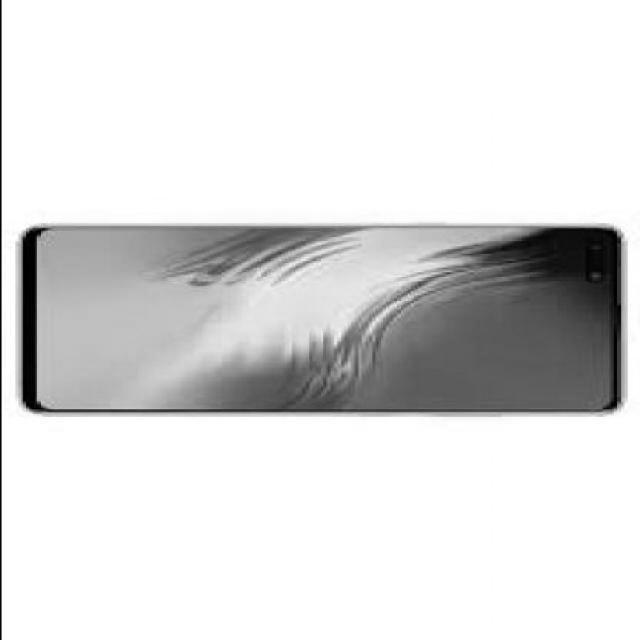fake: (22, 226, 618, 417)
